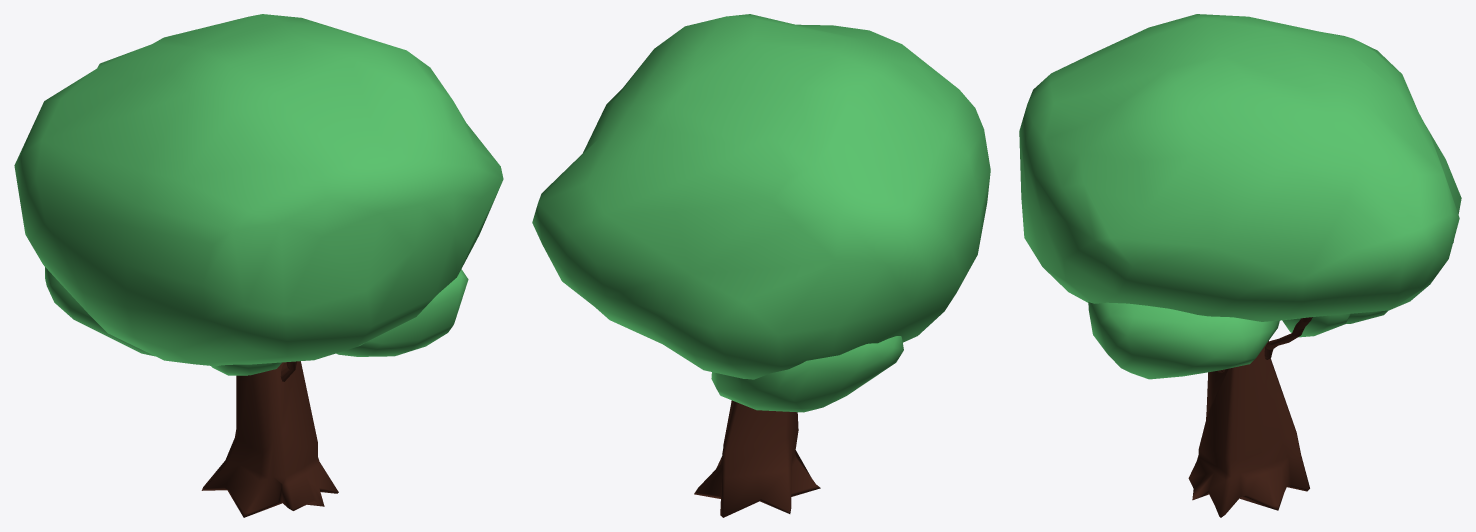
File: oakTree.fbx
The picture shows the model from 3 angles, left to right: view 1: azimuth 30°, elevation 25°; view 2: azimuth 150°, elevation 25°; view 3: azimuth 270°, elevation 25°; orthographic projection. The views are drawn at different scales.
Visible parts, largest first — view 1: Plane.003, Trunk.001; view 2: Plane.003, Trunk.001; view 3: Plane.003, Trunk.001, Cylinder.006.
Part boxes in pixels (<box>): Plane.003: <box>14,14,503,375</box>; Trunk.001: <box>201,361,338,517</box>; Plane.003: <box>532,14,990,412</box>; Trunk.001: <box>694,400,820,517</box>; Plane.003: <box>1019,14,1461,379</box>; Trunk.001: <box>1188,341,1309,517</box>; Cylinder.006: <box>1217,317,1312,372</box>.
Bounding box in the file's own units: 351 × 406 × 366.
